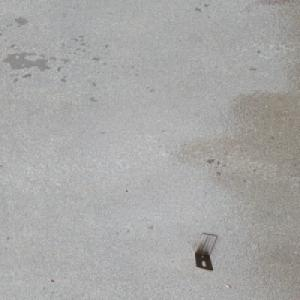MetalPart: (193, 233, 219, 271)
